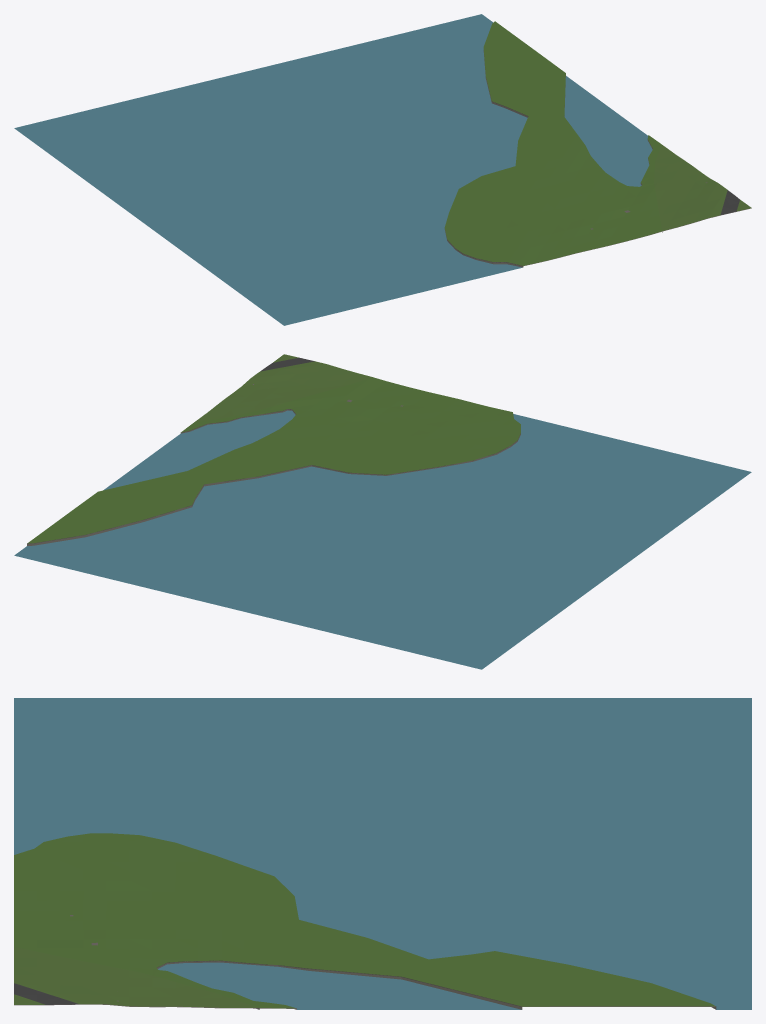
3 renders of one model, top to bottom at view 1: azimuth 30°, elevation 25°; view 2: azimuth 150°, elevation 25°; view 3: azimuth 270°, elevation 25°, orthographic. The views are drawn at different scales.
Parts seen in each view (by area): view 1: append:c_m08_m08, c_m08_m08, append2:c_m08_m08; view 2: append:c_m08_m08, c_m08_m08, append2:c_m08_m08; view 3: append:c_m08_m08, c_m08_m08, append2:c_m08_m08.
Part boxes in pixels (bbox=[...]): append:c_m08_m08: bbox=[14, 14, 637, 242]; c_m08_m08: bbox=[170, 128, 751, 325]; append2:c_m08_m08: bbox=[444, 21, 662, 267]; append:c_m08_m08: bbox=[14, 441, 637, 669]; c_m08_m08: bbox=[170, 354, 751, 555]; append2:c_m08_m08: bbox=[27, 377, 520, 545]; append:c_m08_m08: bbox=[297, 698, 751, 1009]; c_m08_m08: bbox=[14, 698, 325, 1009]; append2:c_m08_m08: bbox=[14, 833, 716, 1009].
Size of the model in its own units: 128 by 1.19 by 128.
